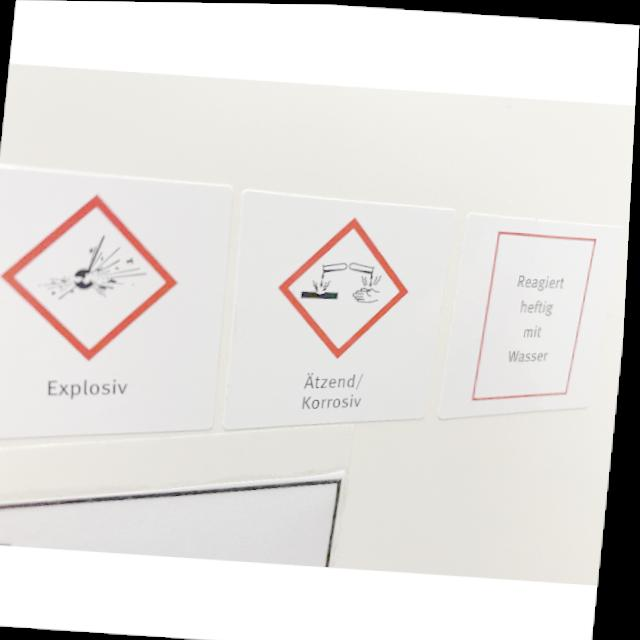corrosive: (303, 258, 387, 304)
explosive: (39, 231, 154, 307)
